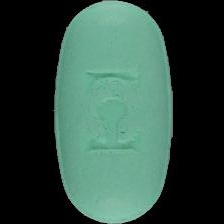16590-832: (0, 0, 224, 224)
